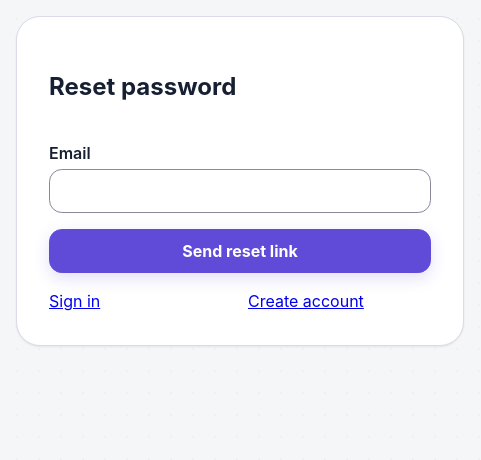
Test case: authentication forms › confirms reset requests with a message that does not disclose account existence
Type "solver@example.test" into the field labelled "Email" at (240, 191), box [49,169,431,213]
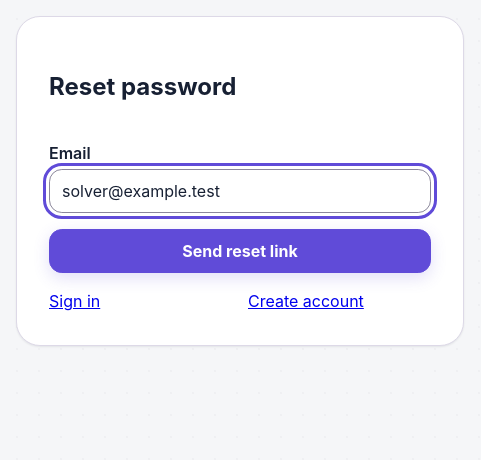
Click the button "Send reset link" at (240, 251), box [49,229,431,273]
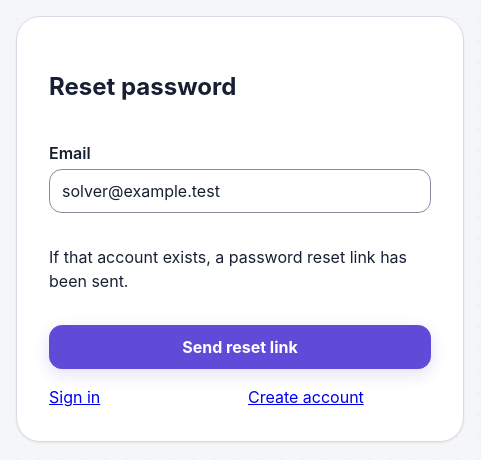
Check: the message reads "If that account exists, a password reset link has been sent.", box [49,247,407,291]
